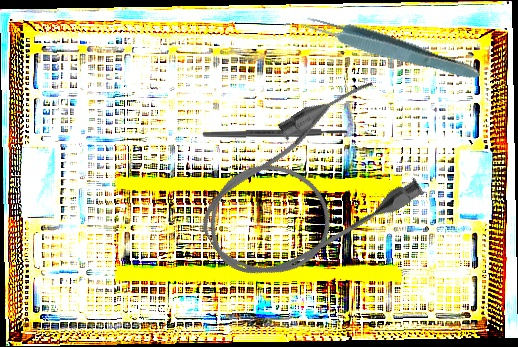Cannula: (176, 70, 437, 304)
Scalpel Handle: (201, 127, 349, 139)
Tissue Forceps: (296, 8, 484, 86)
